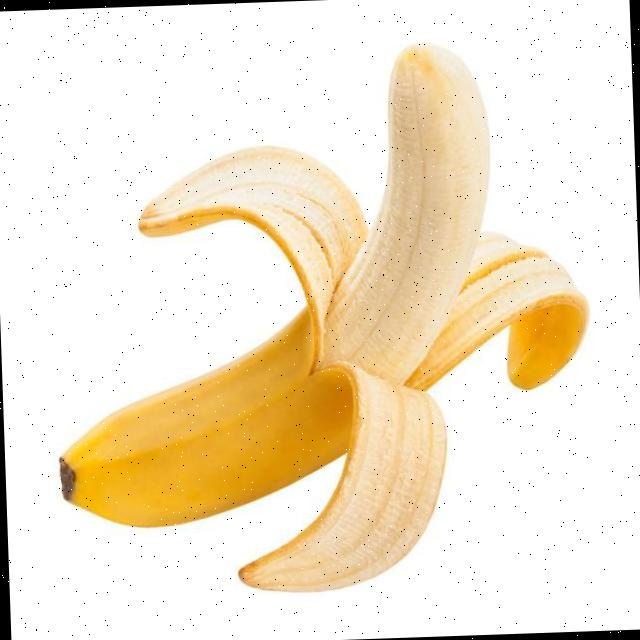banana-peel: (42, 35, 598, 600)
